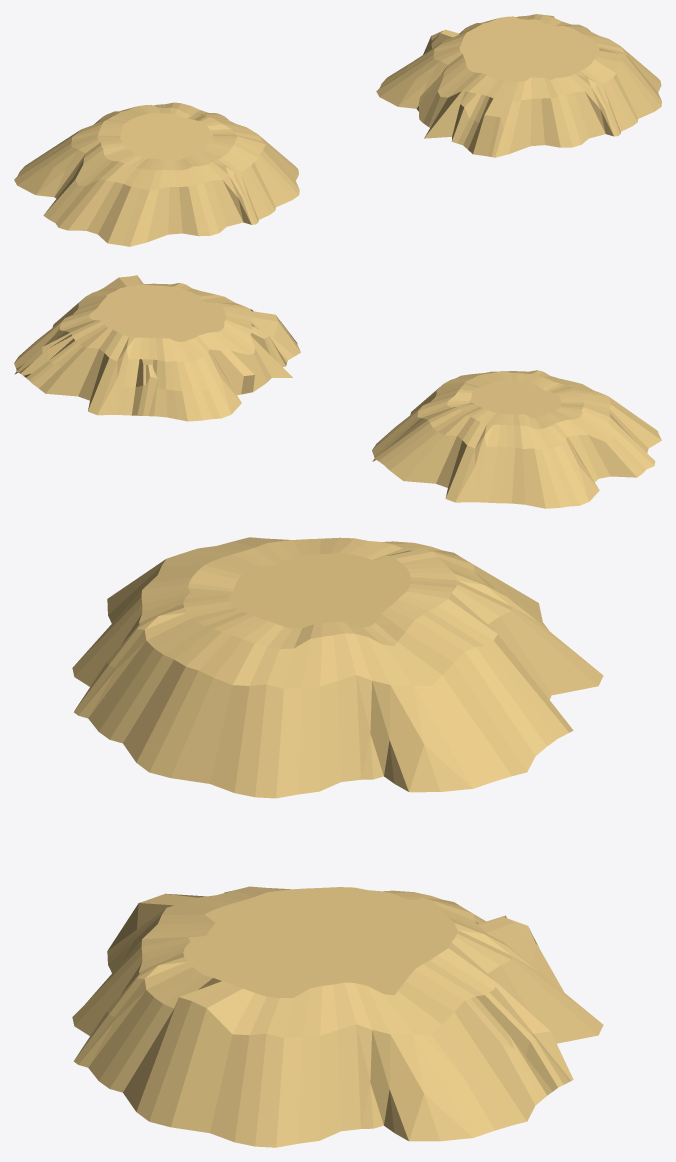
The model's file is Island3.fbx.
The picture shows the model from 3 angles, top to bottom: view 1: azimuth 30°, elevation 25°; view 2: azimuth 150°, elevation 25°; view 3: azimuth 270°, elevation 25°; orthographic projection. The views are drawn at different scales.
Parts seen in each view (by area): view 1: Island 2, Island 1; view 2: Island 1, Island 2; view 3: Island 1, Island 2.
Part boxes in pixels (<box>): Island 2: <box>14,102,299,246</box>; Island 1: <box>376,14,661,157</box>; Island 1: <box>14,275,300,421</box>; Island 2: <box>372,370,661,508</box>; Island 1: <box>72,886,603,1147</box>; Island 2: <box>72,537,603,798</box>.
Bounding box in the file's own units: 67642 × 5984 × 26119.
